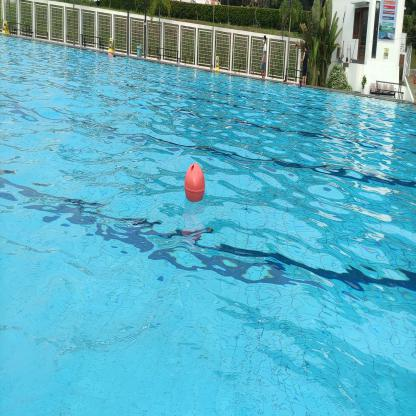red_buoy: (184, 162, 206, 204)
